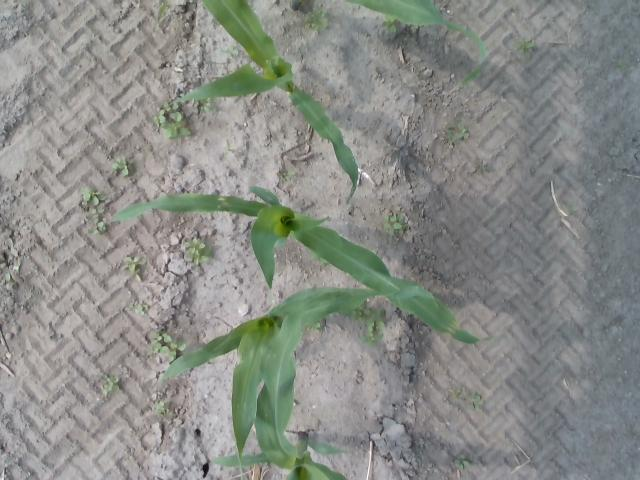Maize: (108, 186, 480, 344), (160, 288, 440, 467), (156, 2, 358, 206), (288, 0, 490, 92), (208, 431, 348, 480)
Weeds: (438, 114, 469, 143), (182, 237, 212, 265), (382, 214, 407, 236), (162, 121, 192, 138), (359, 322, 381, 343), (118, 256, 146, 272), (160, 340, 180, 360), (112, 156, 132, 176), (82, 188, 106, 204), (310, 9, 330, 28), (150, 332, 170, 350), (513, 39, 534, 54), (104, 375, 122, 392), (372, 310, 388, 329), (167, 104, 182, 122), (454, 454, 471, 468), (355, 308, 371, 321), (471, 393, 484, 409), (154, 108, 166, 125), (92, 208, 105, 222), (382, 17, 396, 30), (94, 221, 107, 234), (136, 304, 150, 314), (156, 402, 166, 408)
